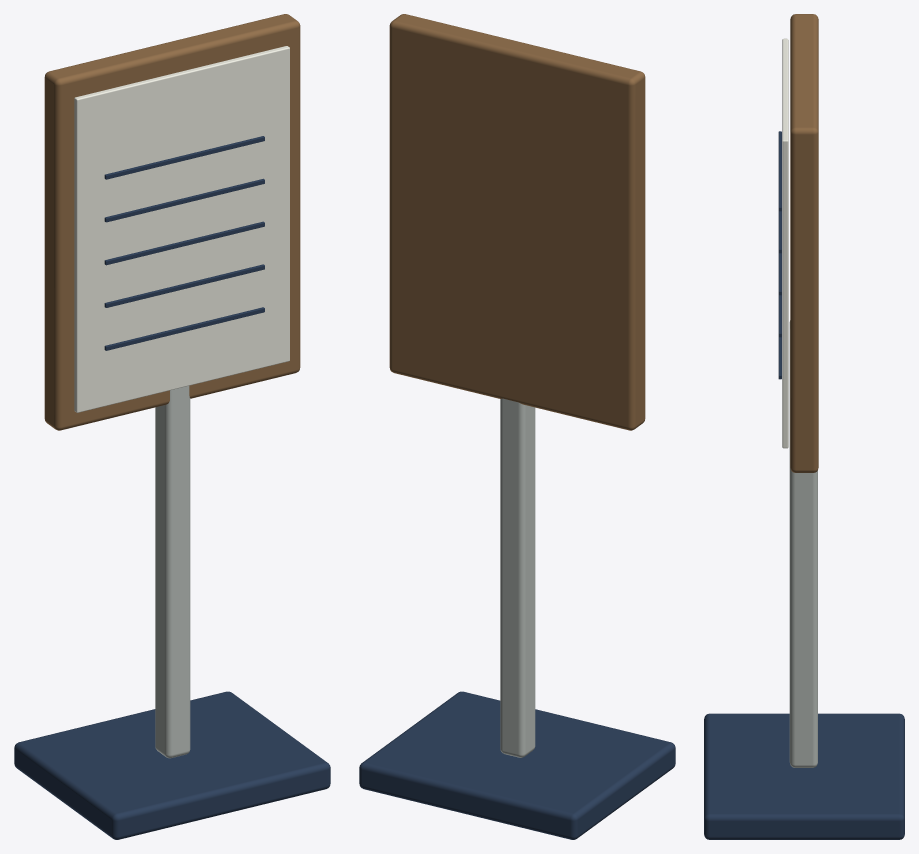
File: planetarium-and-optical-observatory-programme-display-a736e0ce__31837.glb
3 renders of one model, left to right at view 1: azimuth 30°, elevation 25°; view 2: azimuth 150°, elevation 25°; view 3: azimuth 270°, elevation 25°, orthographic.
Visible parts, largest first — view 1: programme-display; view 2: programme-display; view 3: programme-display.
Part boxes in pixels (x1,y1,x2,y2): programme-display: [14, 14, 330, 839]; programme-display: [359, 14, 675, 839]; programme-display: [704, 14, 904, 839].
Size of the model in its own units: 0.54 by 1.54 by 0.3901.
